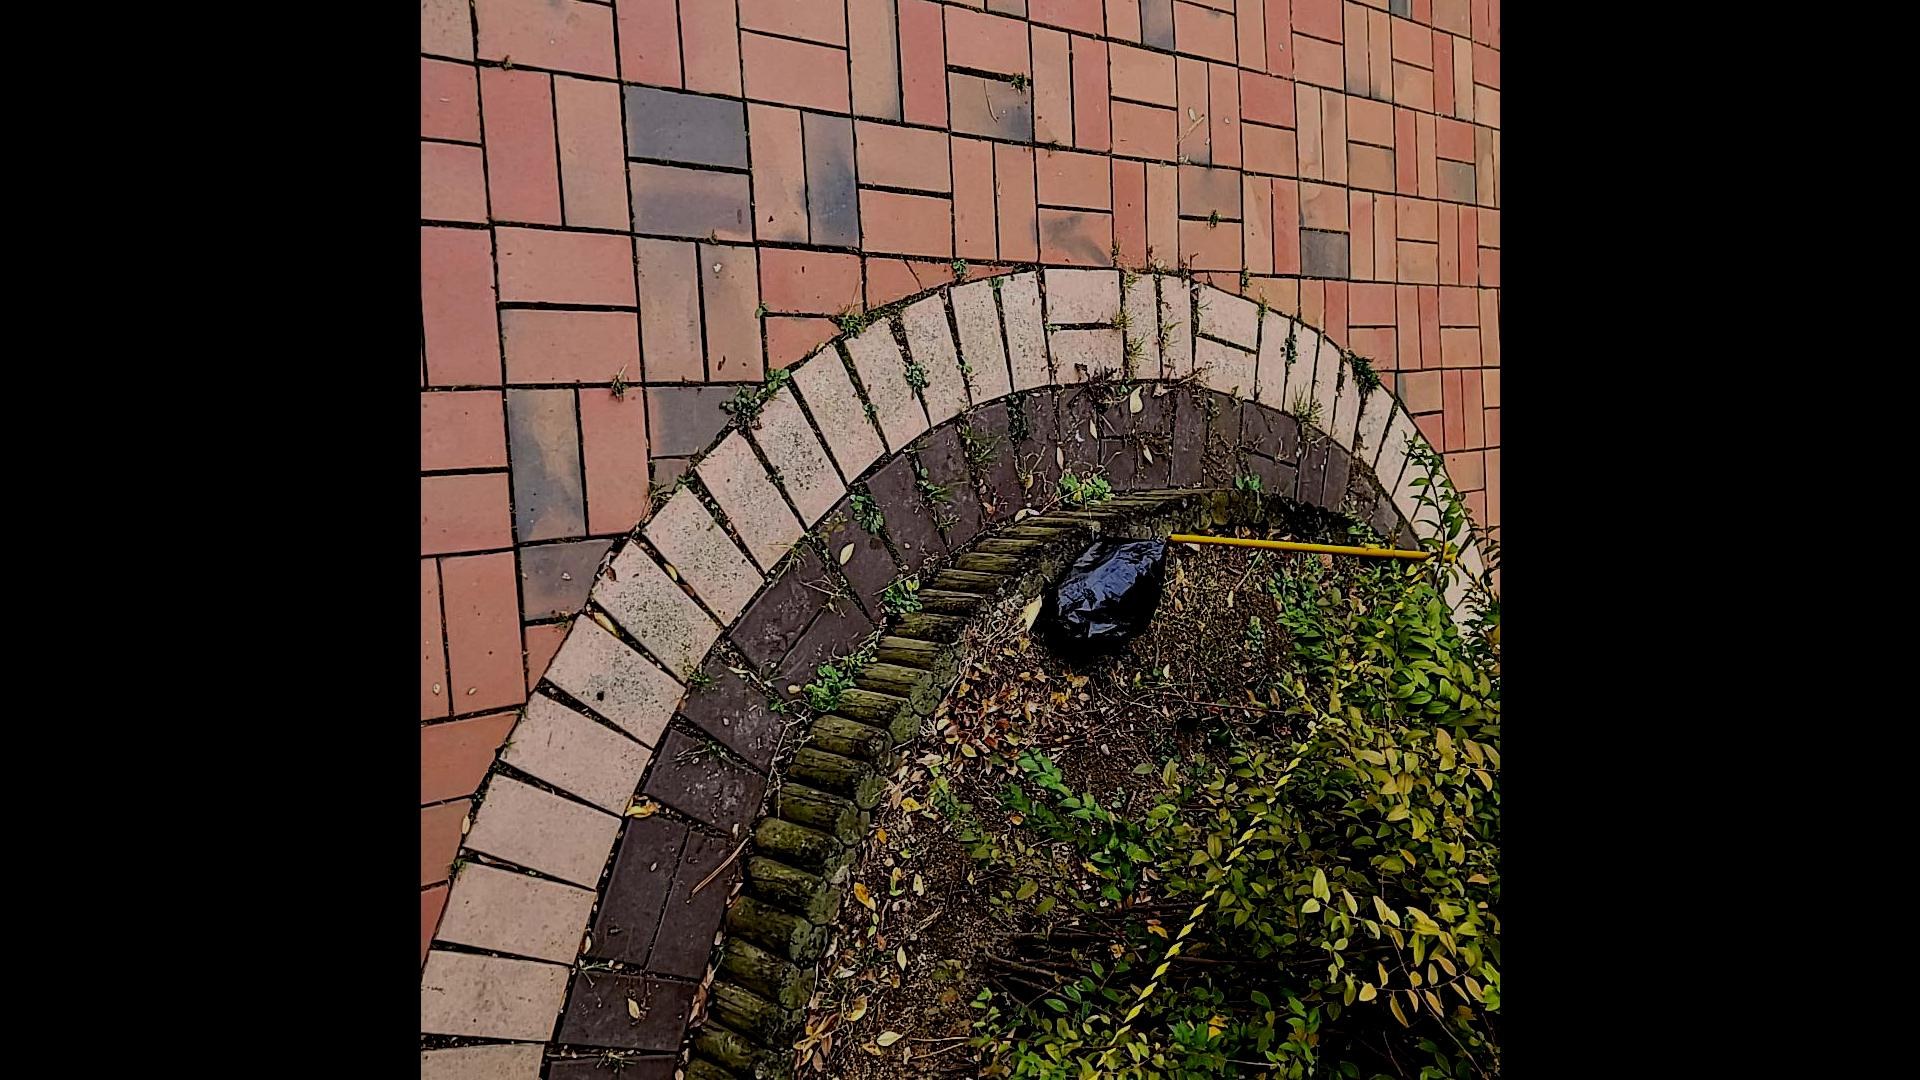black_bag: (1035, 525, 1174, 665)
